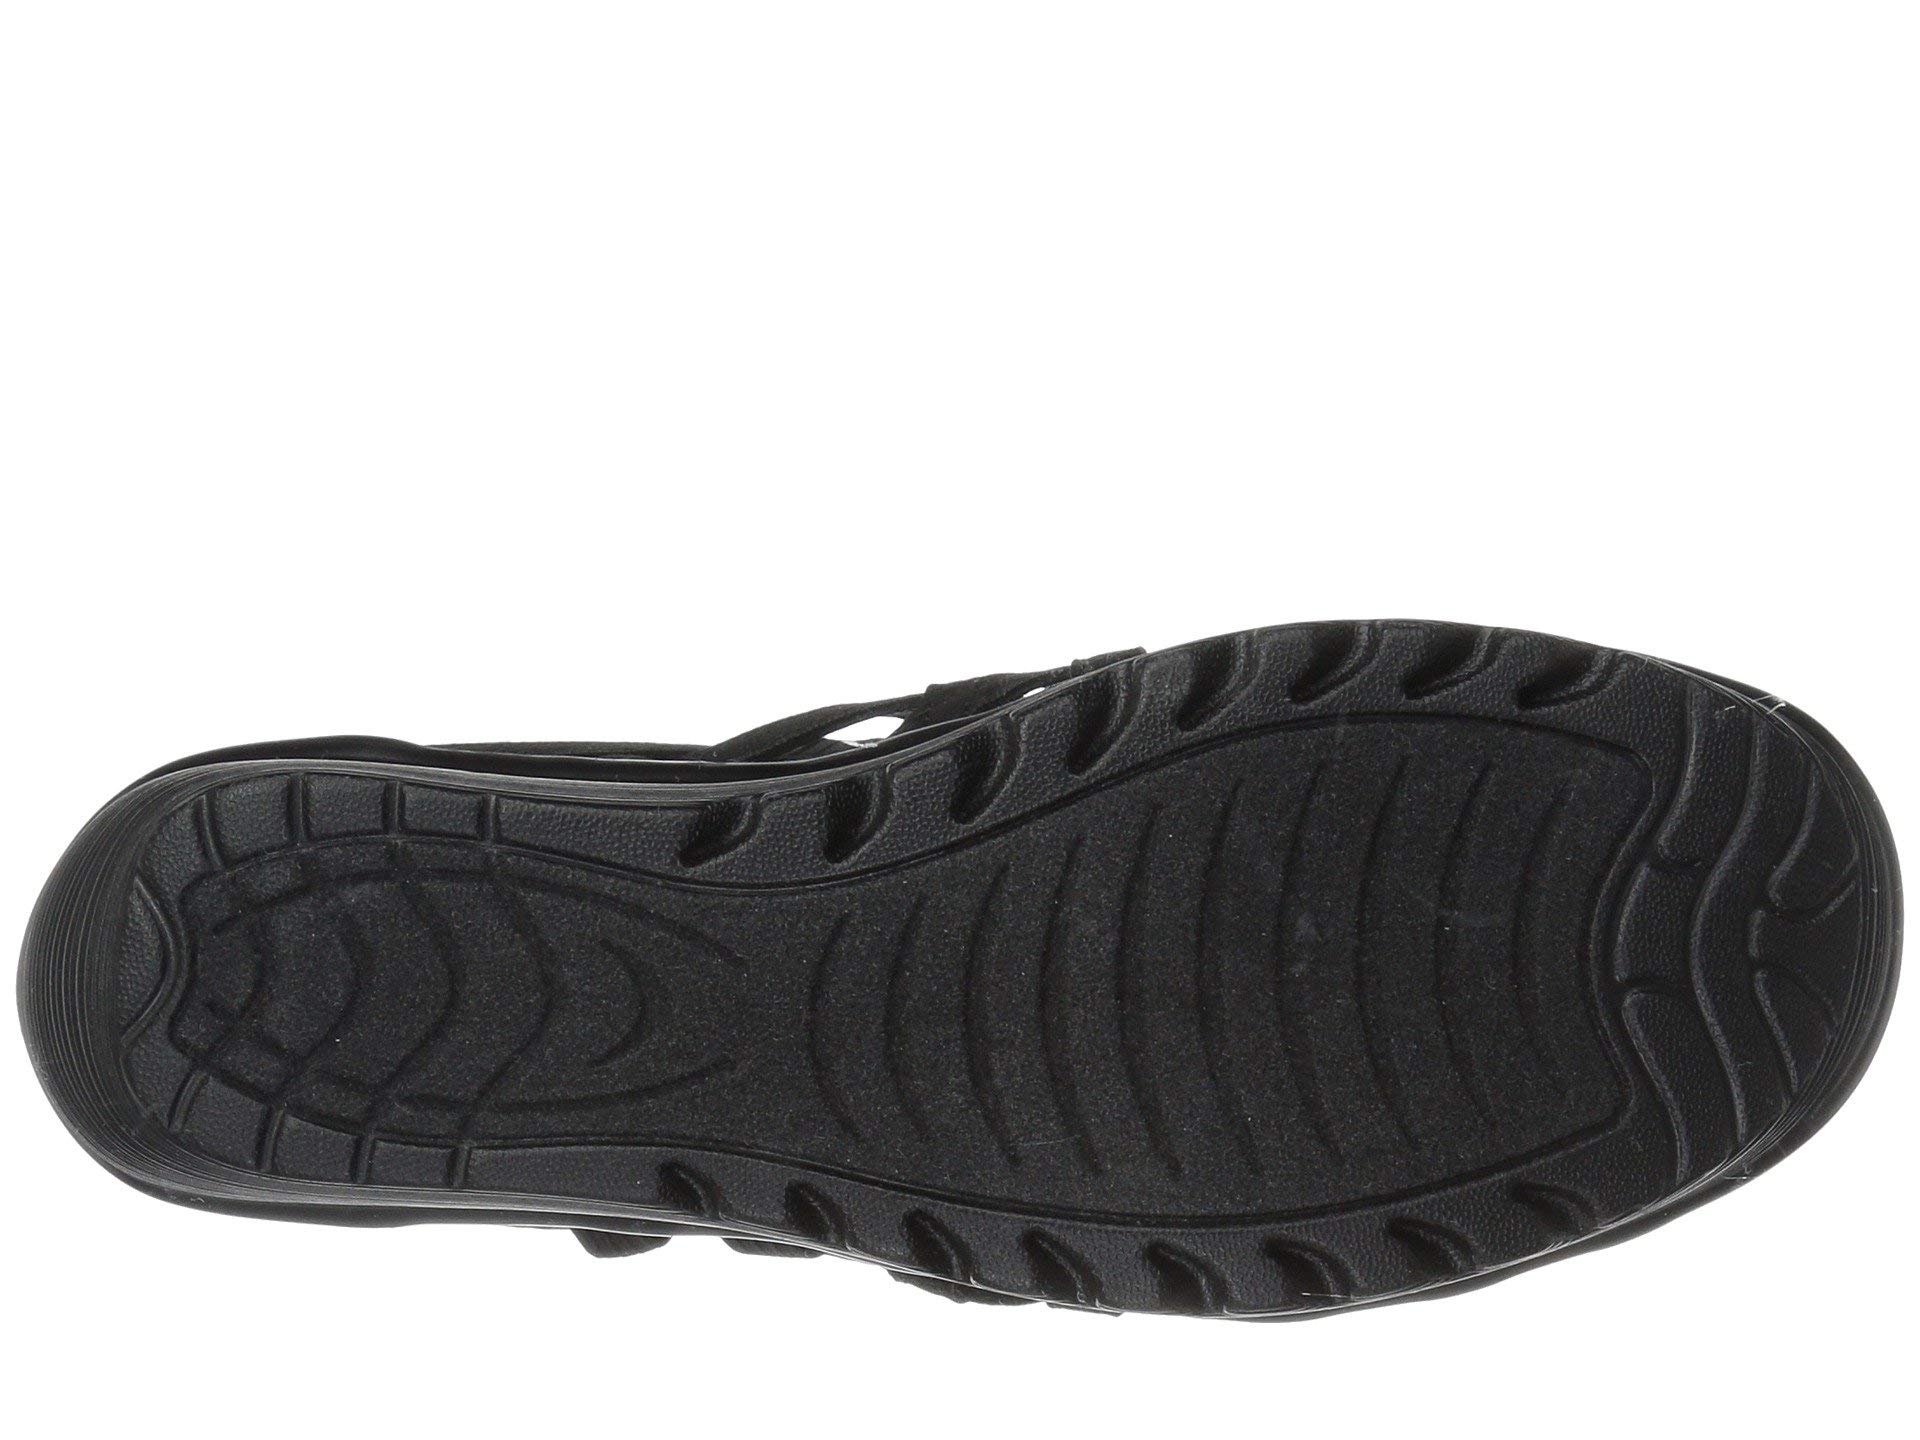chevron: (230, 858, 733, 1122)
line: (828, 846, 1562, 1150), (230, 858, 733, 1122), (1627, 700, 1896, 1131), (1163, 628, 1495, 771)
other: (1163, 628, 1495, 771)
quad: (1627, 700, 1896, 1131)
